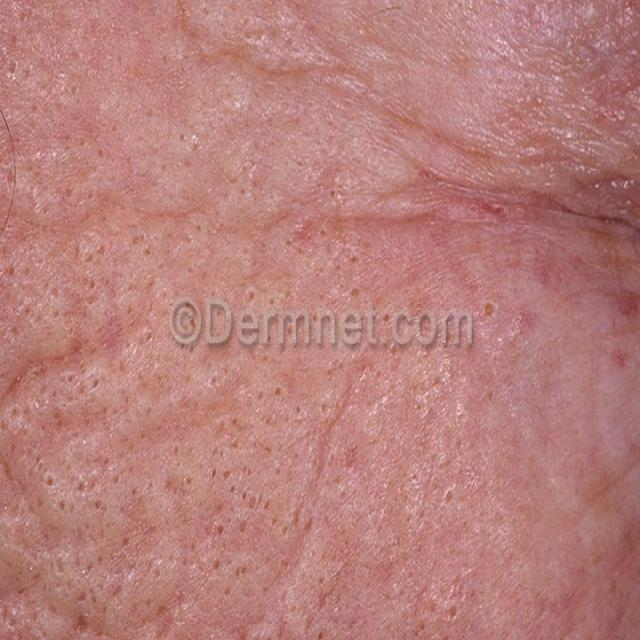Dry-Skin: (434, 117, 640, 296), (369, 117, 558, 274), (181, 0, 327, 98), (296, 364, 355, 546), (14, 331, 129, 399), (556, 273, 640, 344)
